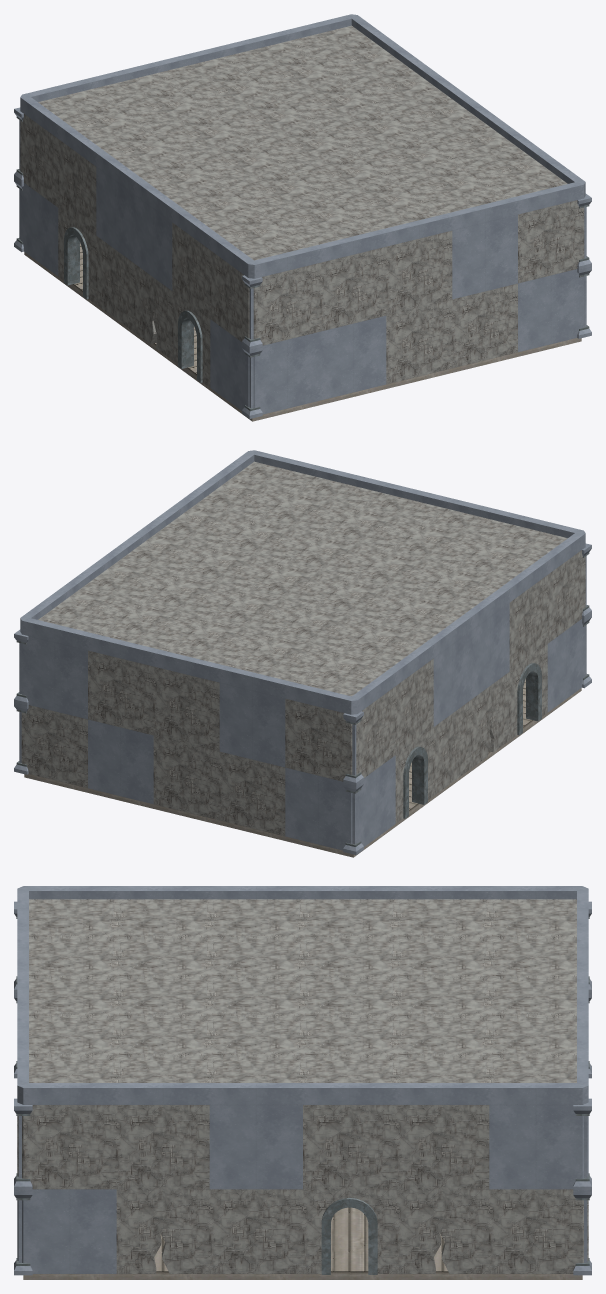
Rendered from BedCambers_AF.fbx.
3 views of the same model, one above another, from view 1: azimuth 30°, elevation 25°; view 2: azimuth 150°, elevation 25°; view 3: azimuth 270°, elevation 25° (orthographic). The views are drawn at different scales.
Visible parts, largest first — view 1: roof_flatSide (×14), wall (×11), roof_flat (×12), wall_corner (×6), roof_flatCorner (×4), doorway_round (×2), wall_destroyedCrack, column_classic (×2); view 2: roof_flatSide (×14), wall (×11), roof_flat (×12), wall_corner (×6), roof_flatCorner (×4), doorway_round (×2), wall_destroyedCrack, column_classic (×2); view 3: roof_flatSide (×14), roof_flat (×12), wall (×5), wall_corner (×4), roof_flatCorner (×4), wall_destroyedCrack (×2), porch_floorCenter (×7), doorway_round, column_classic (×4).
Boxes of the visible parts, box(x1,y1,x2,y2) form: roof_flatSide (×14): box(58, 30, 547, 262); wall (×11): box(58, 139, 517, 400); roof_flat (×12): box(126, 65, 479, 227); wall_corner (×6): box(20, 114, 584, 414); roof_flatCorner (×4): box(20, 14, 585, 278); doorway_round (×2): box(58, 208, 210, 387); wall_destroyedCrack: box(134, 264, 172, 359); column_classic (×2): box(242, 275, 262, 418); roof_flatSide (×14): box(59, 466, 547, 698); wall (×11): box(88, 575, 547, 836); roof_flat (×12): box(126, 504, 479, 663); wall_corner (×6): box(21, 550, 585, 850); roof_flatCorner (×4): box(20, 450, 585, 714); doorway_round (×2): box(395, 644, 547, 823); wall_destroyedCrack: box(471, 672, 509, 767); column_classic (×2): box(343, 711, 363, 854); roof_flatSide (×14): box(17, 886, 588, 1104); roof_flat (×12): box(110, 934, 495, 1056); wall (×5): box(116, 1105, 489, 1273); wall_corner (×4): box(17, 1105, 588, 1273); roof_flatCorner (×4): box(17, 886, 588, 1104); wall_destroyedCrack (×2): box(116, 1189, 489, 1273); porch_floorCenter (×7): box(23, 1207, 582, 1279); doorway_round: box(303, 1189, 396, 1274); column_classic (×4): box(14, 1098, 591, 1275).
Bounding box in the file's own units: 52 × 23 × 62.
